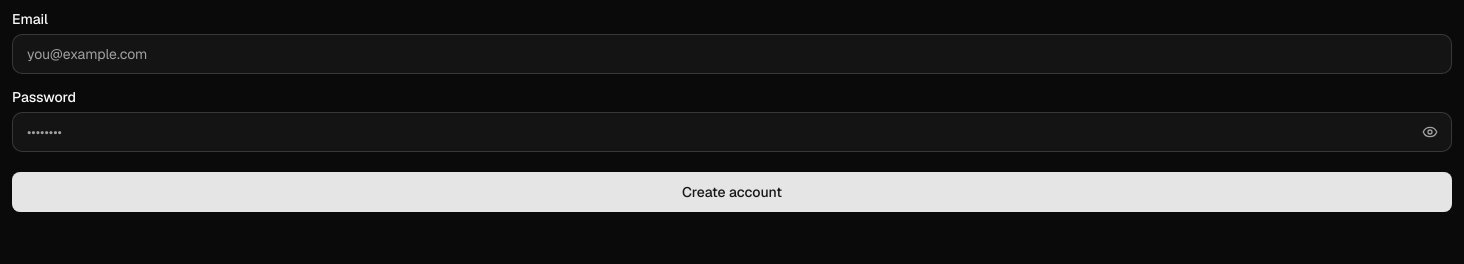
Test case: EmailPasswordForm › shows a friendly error when the email is already in use during sign up
The width and height of the screenshot is (1464, 264).
In the field labelled "Email": (732, 54) [12,34,1452,74], type "user@example.com"
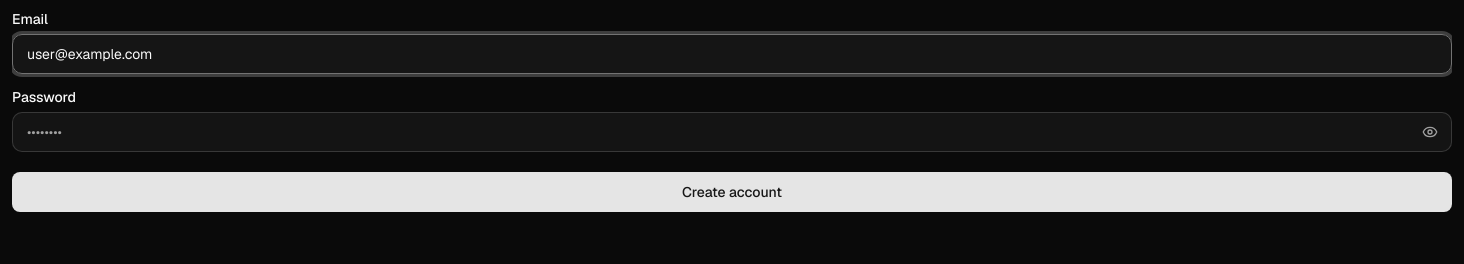
In the password field labelled "Password": (732, 132) [12,112,1452,152], type "secret123"
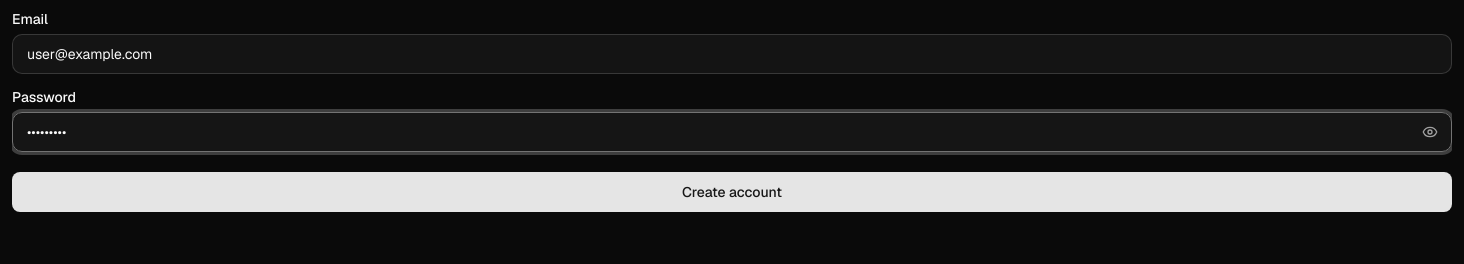
Click the button "Create account": (732, 192) [12,172,1452,212]
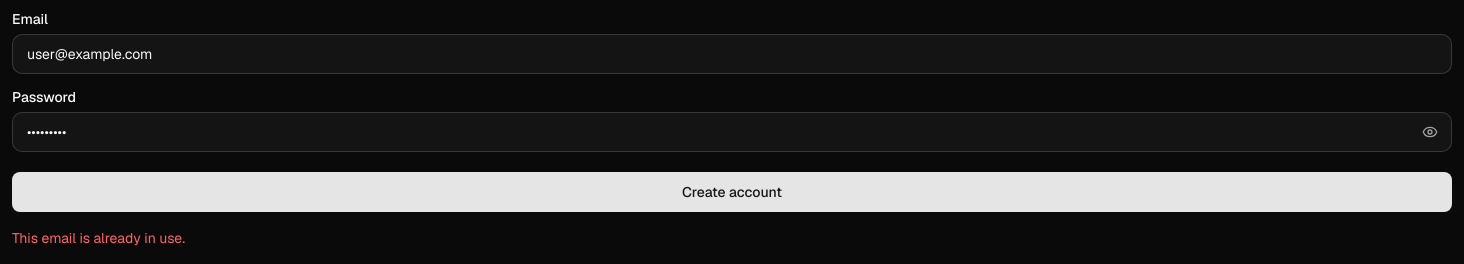
Check: the message reads "This email is already in use.", box [12,229,185,247]
